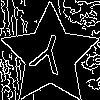Y: (25, 30, 69, 84)
